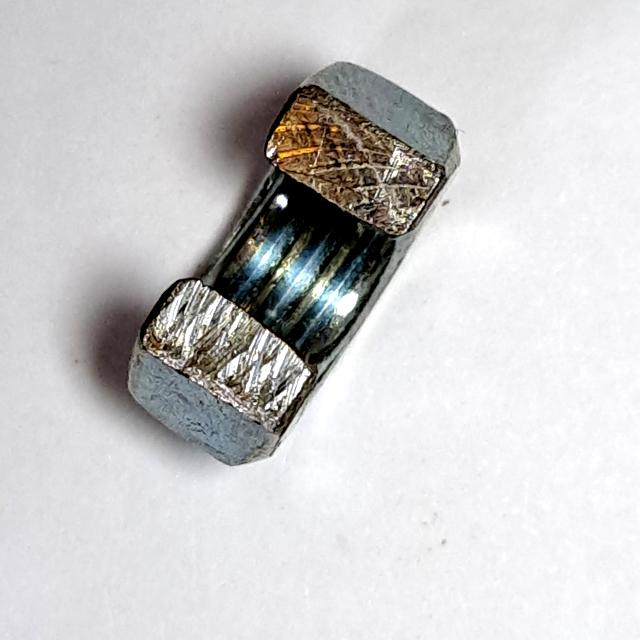Side-Fracture: (121, 53, 469, 475)
